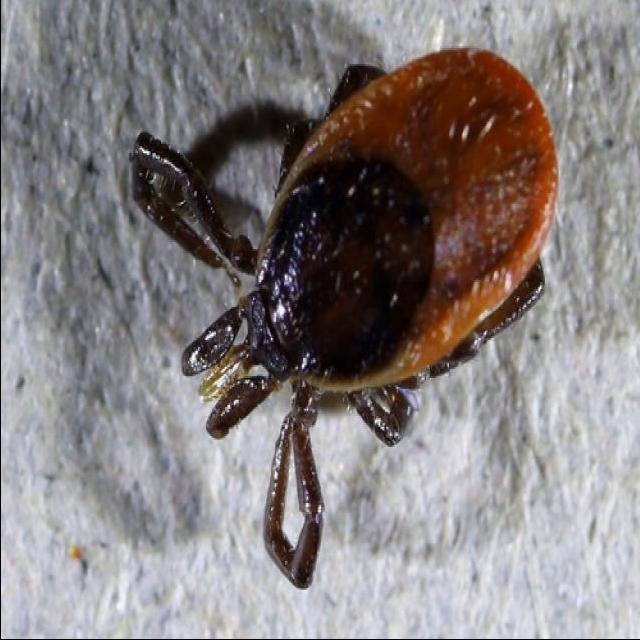Ixodes Ricinus-F: (128, 49, 559, 591)
